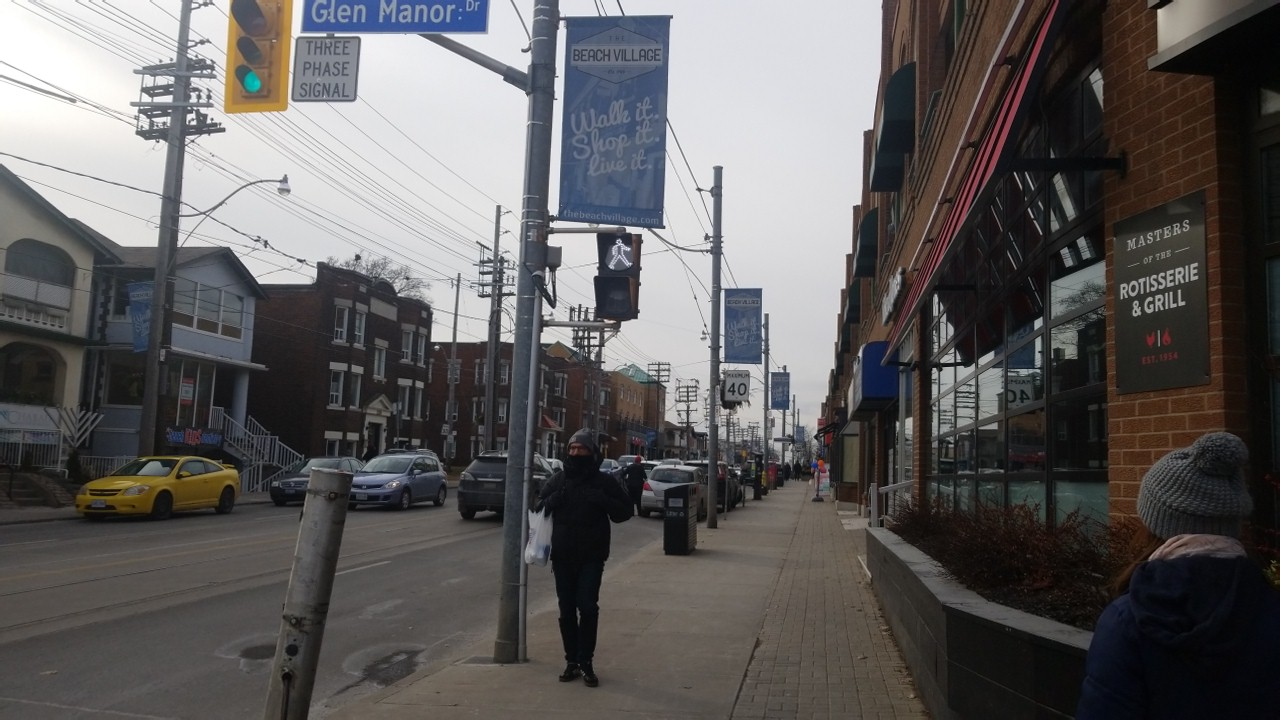light: (594, 228, 640, 321)
